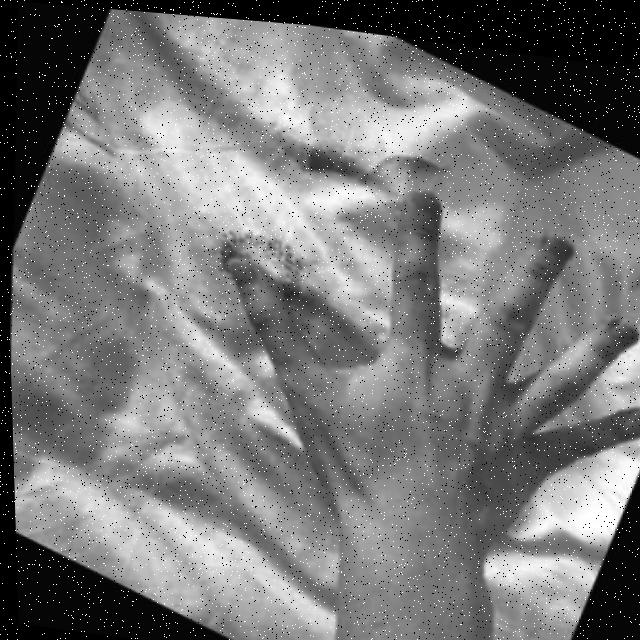hand: (206, 156, 640, 545)
